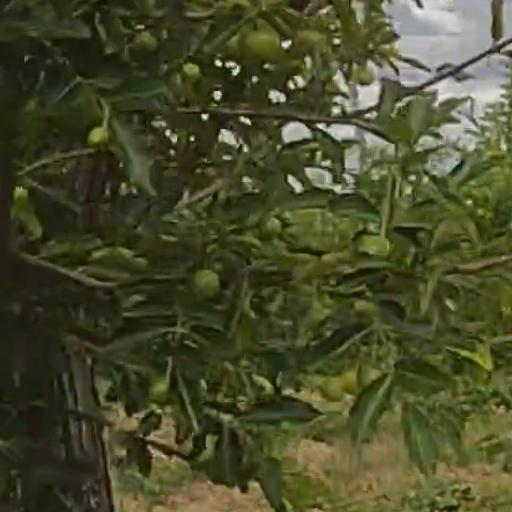acerola_verde: (245, 33, 279, 64), (189, 269, 218, 300), (321, 377, 343, 400)
